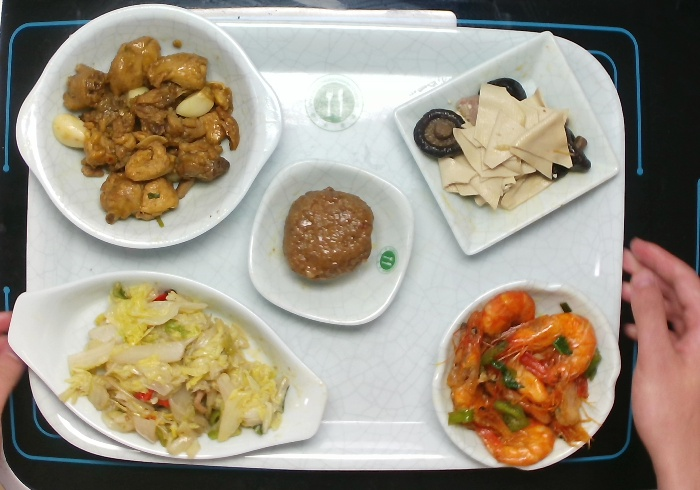JYsf-Ao_Yuan_Wan: (426, 280, 622, 471)
JYsf-Shuang_Er_Wan: (13, 1, 285, 253)
JYsf-Si_Fang_Die: (247, 157, 415, 328)
JYsf-Yu_Pan: (4, 272, 329, 461)
WCQzf-Ru_Ci_Si_Fang_Die: (385, 28, 624, 257)
